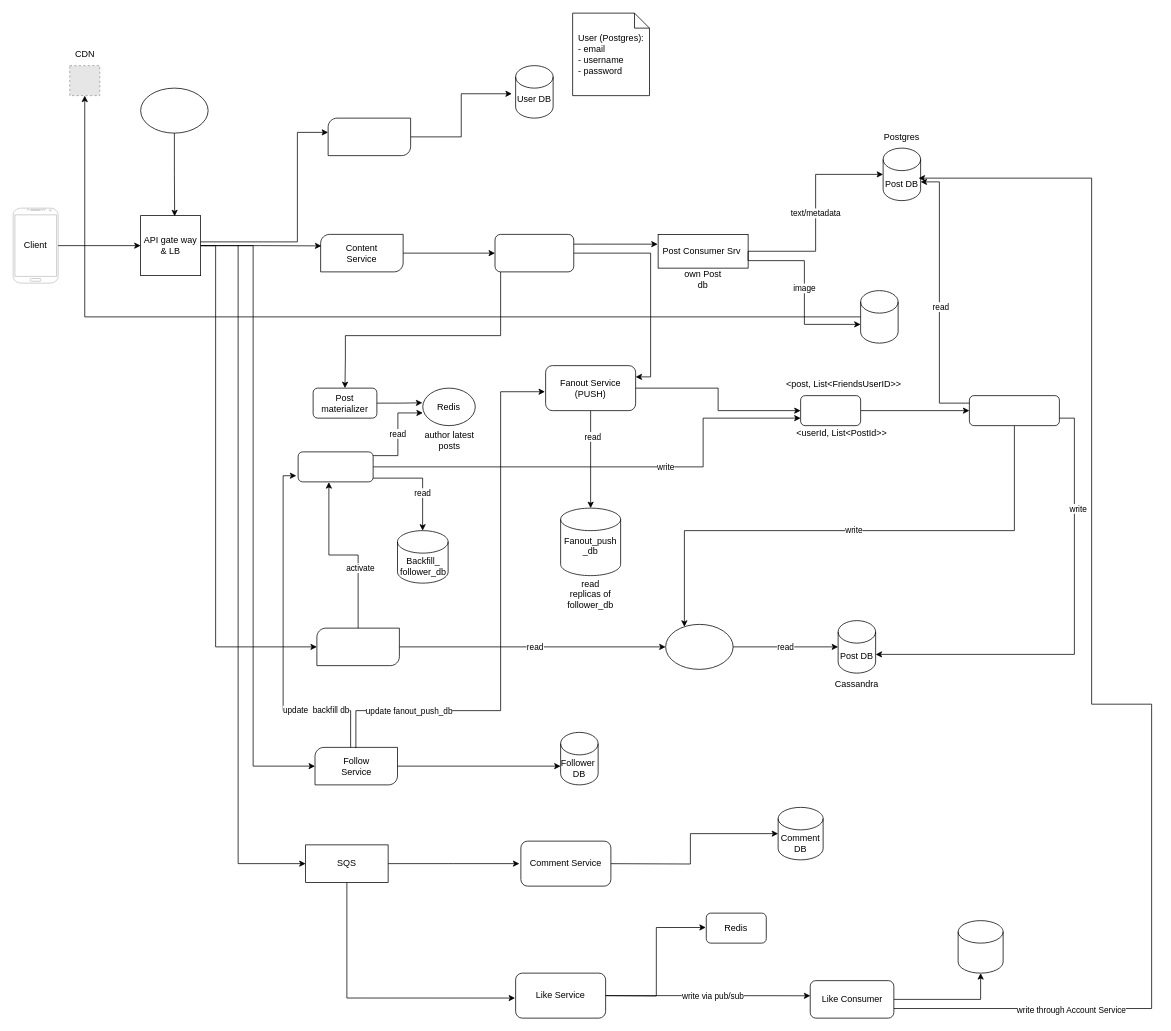
Some shapes in this 1171 by 1031 pixel diagram are drawn without their labels. Grey dashed boxes stand in for pictures. Here are the shapes that lost their labels. From the top down, the centre of each, then its label:
At (174,110): "Auth Service".
At (369,136): "Account Service".
At (534,253): "Pub Sub".
At (879,316): "S3".
At (830,410): "Pub/Sub".
At (1014,410): "Fanout Consumer".
At (335,466): "Backfill Service".
At (357,646): "Feed Service".
At (699,646): "Feed Cache".
At (980,946): "Like DB".
